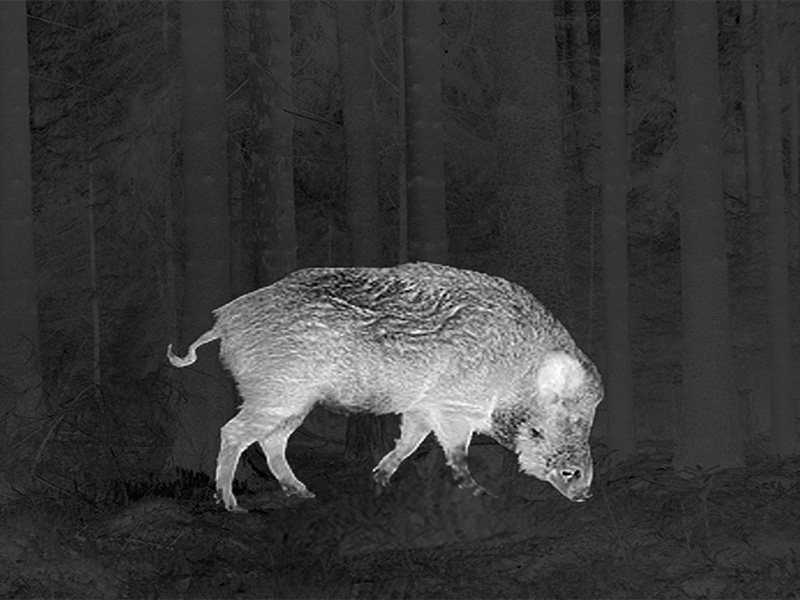cinghiale: (167, 260, 605, 534)
